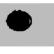correct: (4, 7, 34, 33)
